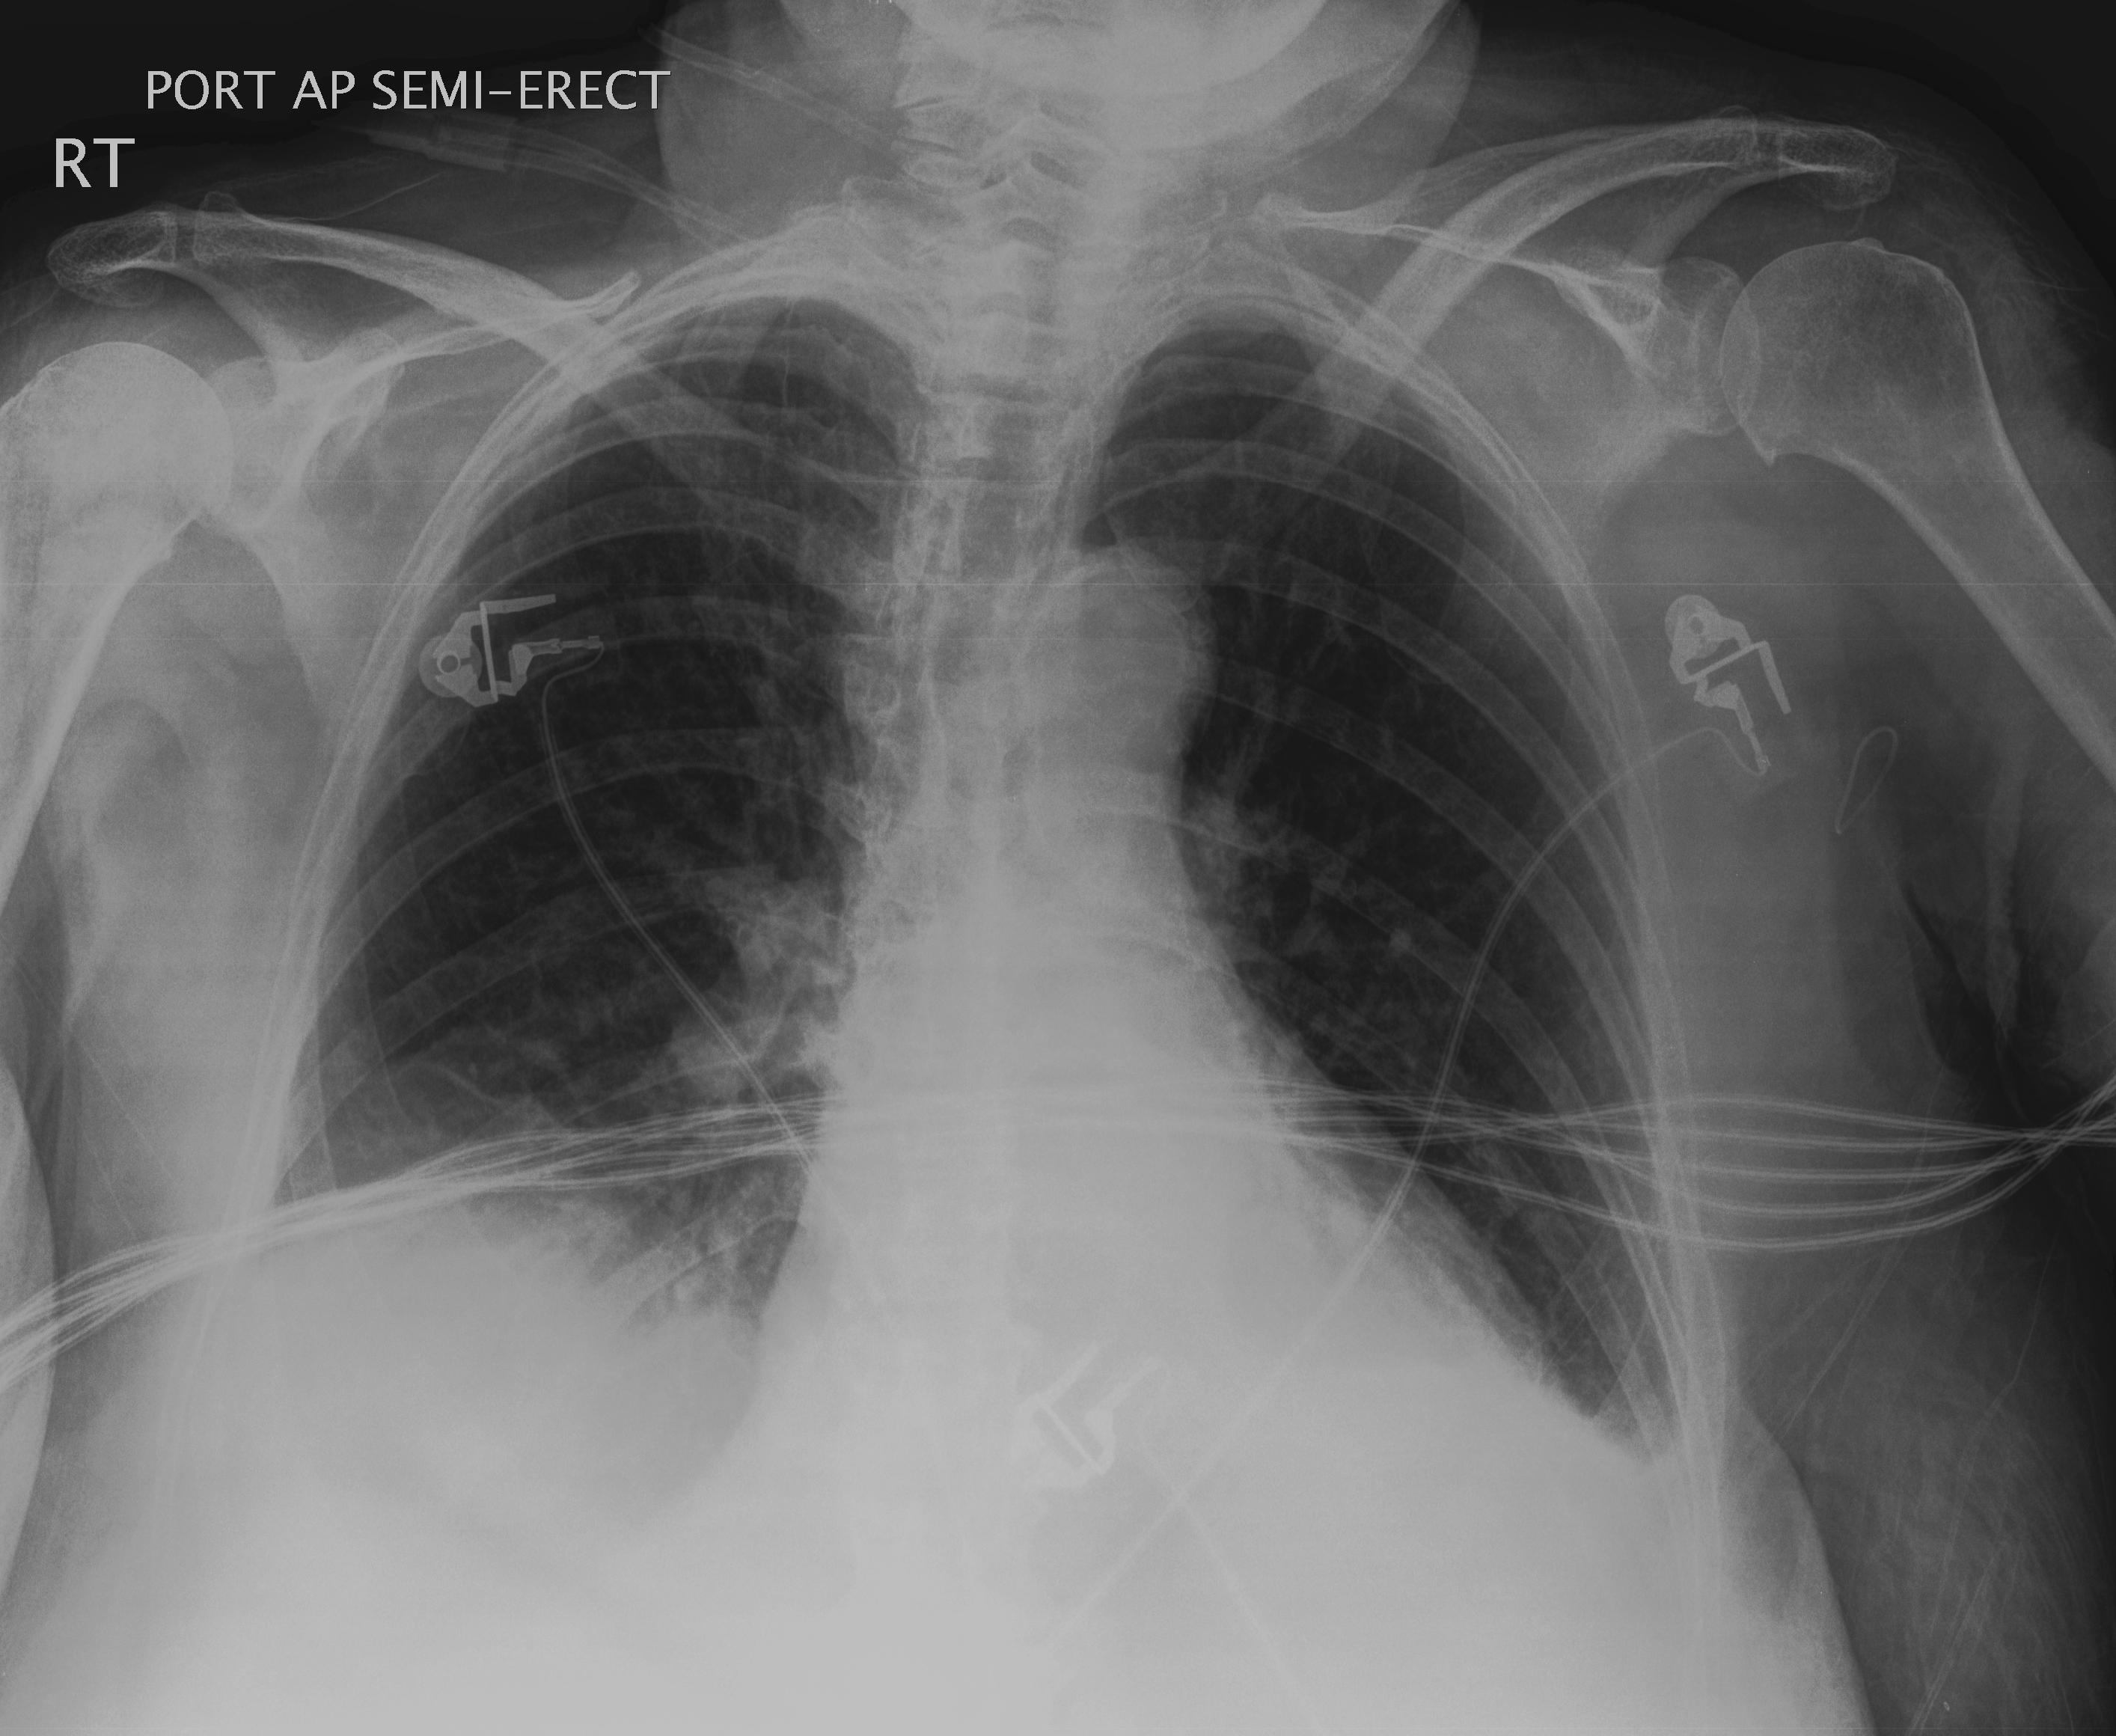Pleural Effusion: (178, 1163, 689, 1501)
